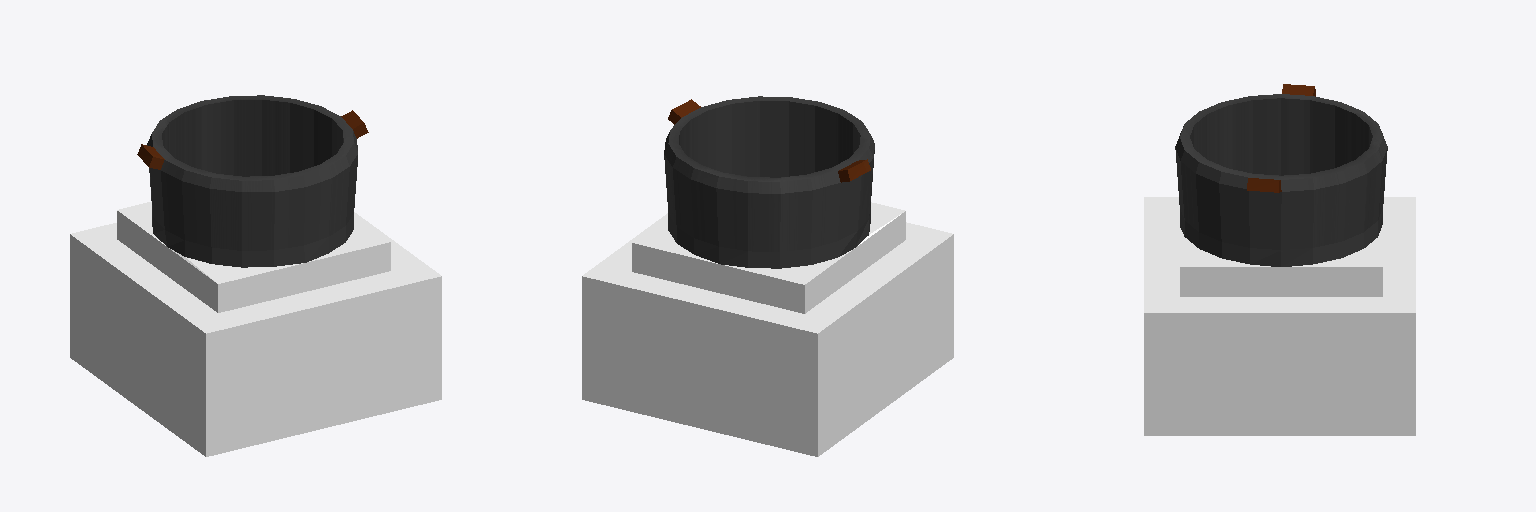
The picture shows the model from 3 angles: view 1: azimuth 30°, elevation 25°; view 2: azimuth 150°, elevation 25°; view 3: azimuth 270°, elevation 25°; orthographic projection.
Parts seen in each view (by area): view 1: Pot:pasted__pCylinder2group5; view 2: Pot:pasted__pCylinder2group5; view 3: Pot:pasted__pCylinder2group5.
Boxes of the visible parts, x1,y1,x2,y2 form: Pot:pasted__pCylinder2group5: [70, 95, 441, 456]; Pot:pasted__pCylinder2group5: [582, 96, 953, 456]; Pot:pasted__pCylinder2group5: [1144, 84, 1415, 435].
Bounding box in the file's own units: 1 × 0.9923 × 1.
2 materials, 1 textured.